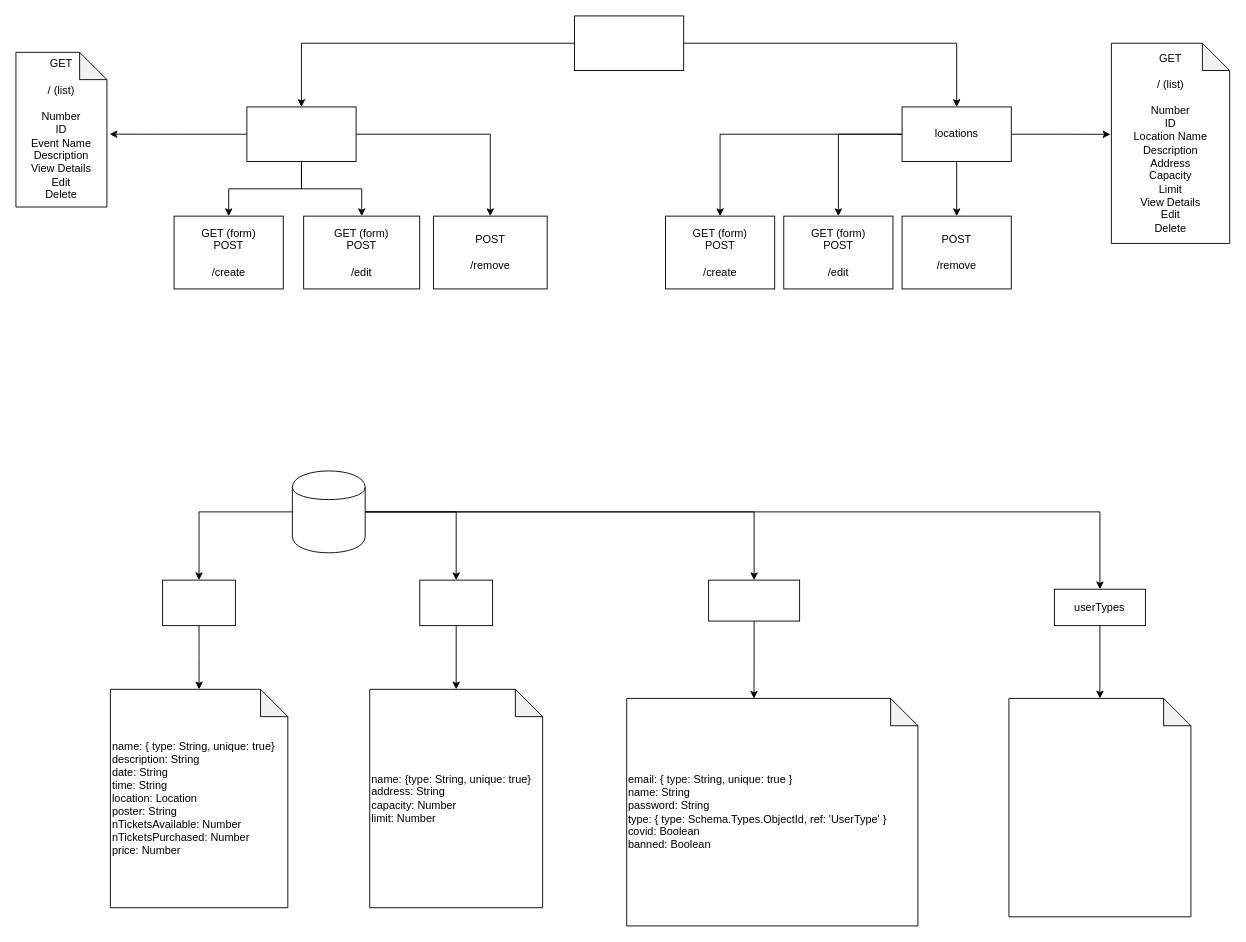
Image size: 1246x942. Some labels were removed from this diagram. Here are the shapes that lost their labels. From the top down, the centre of each, then its label:
(x=629, y=43): GET /
(x=301, y=134): events
(x=328, y=511): MongoDB
(x=198, y=602): event
(x=456, y=602): location
(x=754, y=600): users
(x=1099, y=807): type: { type: String, unique:true}
